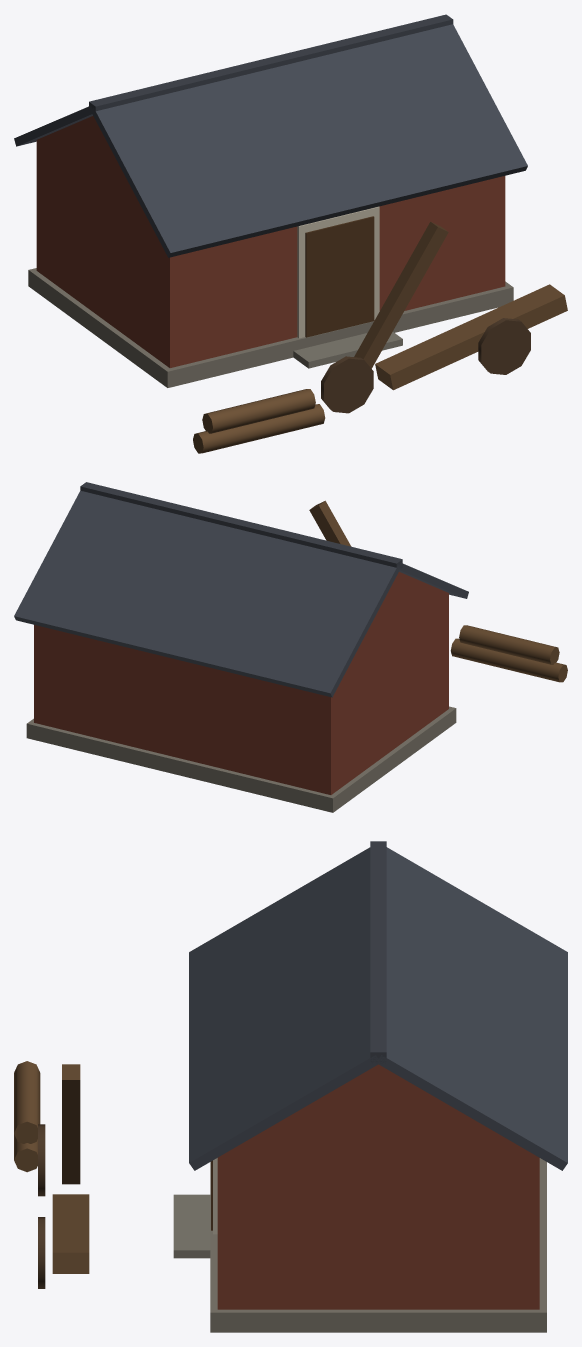
File: procedural_siegeworkshop@5.glb
The picture shows the model from 3 angles, top to bottom: view 1: azimuth 30°, elevation 25°; view 2: azimuth 150°, elevation 25°; view 3: azimuth 270°, elevation 25°; orthographic projection. The views are drawn at different scales.
Visible parts, largest first — view 1: part_0; view 2: part_0; view 3: part_0.
Boxes of the visible parts, left/top/right/bottom form: part_0: left=14, top=14, right=567, bottom=453; part_0: left=14, top=482, right=567, bottom=812; part_0: left=14, top=841, right=567, bottom=1332.
Bounding box in the file's own units: 7.57 × 4.28 × 7.57.
